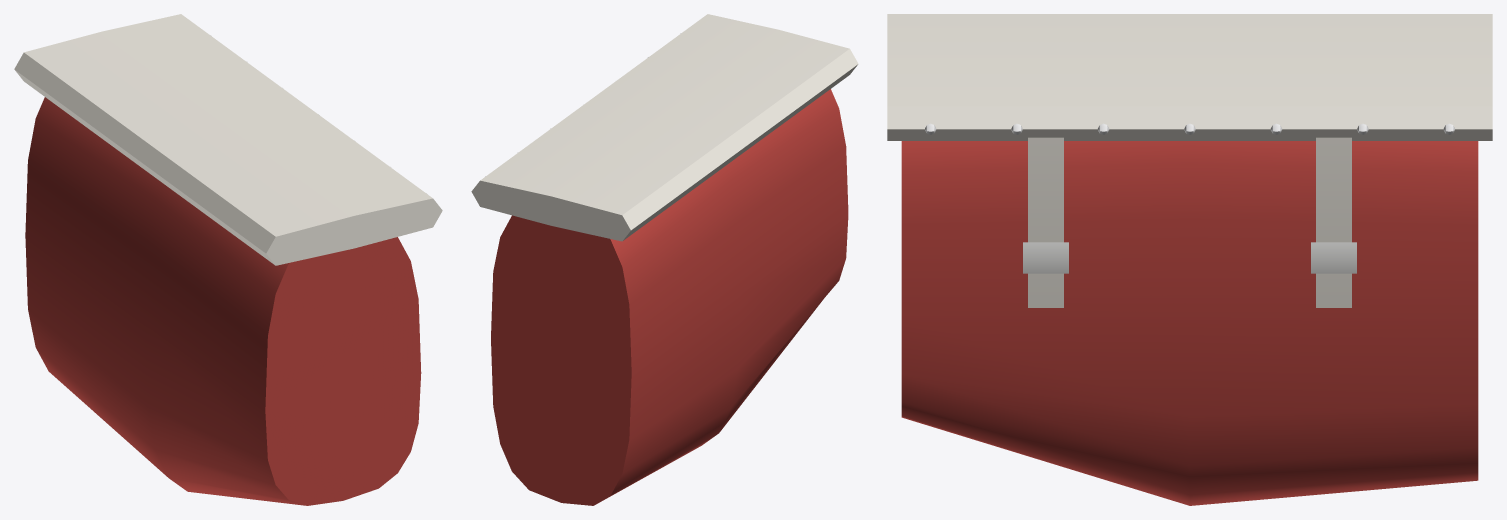
File: saddlebag.glb
3 views of the same model, side by side, from view 1: azimuth 30°, elevation 25°; view 2: azimuth 150°, elevation 25°; view 3: azimuth 270°, elevation 25° (orthographic). The views are drawn at different scales.
Visible parts, largest first — view 1: lod0; view 2: lod0; view 3: lod0.
Boxes of the visible parts, box(x1,y1,x2,y2) form: lod0: box(14, 14, 442, 505); lod0: box(471, 14, 858, 505); lod0: box(887, 14, 1492, 505).
Size of what is drawn, in the model's own units: 0.174 by 0.335 by 0.42.
